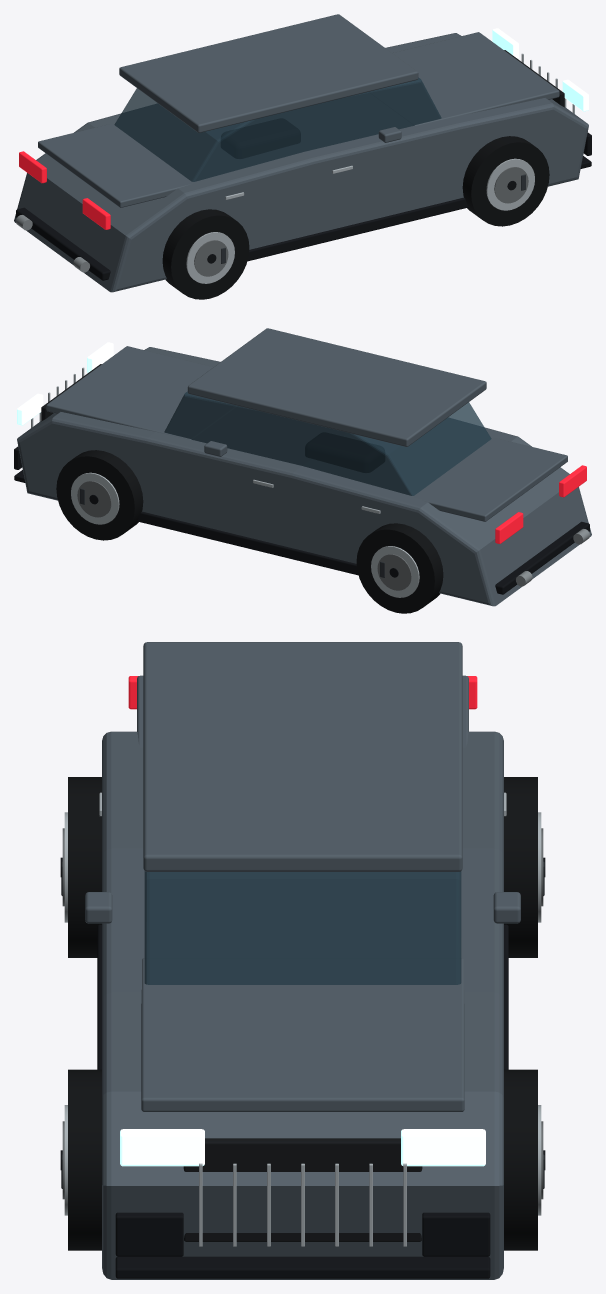
The model's file is lambo_urus_s.glb.
The picture shows the model from 3 angles, top to bottom: view 1: azimuth 30°, elevation 25°; view 2: azimuth 150°, elevation 25°; view 3: azimuth 270°, elevation 25°; orthographic projection. The views are drawn at different scales.
Parts seen in each view (by area): view 1: sculpted_body, roof, glasshouse, hood_center, rear_deck, rear_right_wheel_tire, front_right_wheel_tire, side_skirt_1, seat_1, rear_diffuser, rear_right_wheel_rim, front_right_wheel_rim (+6 smaller); view 2: sculpted_body, roof, glasshouse, hood_center, rear_deck, rear_left_wheel_tire, front_left_wheel_tire, side_skirt_-1, seat_-1, rear_diffuser, rear_left_wheel_rim, front_left_wheel_rim (+6 smaller); view 3: sculpted_body, roof, hood_center, glasshouse, front_grille, front_splitter, front_left_wheel_tire, front_right_wheel_tire, rear_left_wheel_tire, rear_right_wheel_tire, headlight_left, headlight_right (+5 smaller).
Boxes of the visible parts, x1=… form: sculpted_body: x1=14, y1=33, x2=588, y2=292; roof: x1=119, y1=14, x2=418, y2=132; glasshouse: x1=114, y1=77, x2=441, y2=181; hood_center: x1=369, y1=32, x2=559, y2=125; rear_deck: x1=38, y1=123, x2=193, y2=207; rear_right_wheel_tire: x1=162, y1=209, x2=249, y2=299; front_right_wheel_tire: x1=462, y1=136, x2=549, y2=226; side_skirt_1: x1=247, y1=197, x2=468, y2=261; seat_1: x1=221, y1=119, x2=300, y2=158; rear_diffuser: x1=16, y1=207, x2=110, y2=280; rear_right_wheel_rim: x1=186, y1=232, x2=234, y2=283; front_right_wheel_rim: x1=486, y1=158, x2=534, y2=210; sculpted_body: x1=17, y1=347, x2=591, y2=606; roof: x1=187, y1=328, x2=486, y2=446; glasshouse: x1=164, y1=391, x2=491, y2=495; hood_center: x1=46, y1=346, x2=236, y2=439; rear_deck: x1=412, y1=437, x2=567, y2=521; rear_left_wheel_tire: x1=356, y1=523, x2=443, y2=613; front_left_wheel_tire: x1=56, y1=450, x2=143, y2=540; side_skirt_-1: x1=137, y1=511, x2=358, y2=575; seat_-1: x1=305, y1=433, x2=384, y2=472; rear_diffuser: x1=495, y1=521, x2=589, y2=594; rear_left_wheel_rim: x1=371, y1=546, x2=419, y2=597; front_left_wheel_rim: x1=71, y1=472, x2=119, y2=524; sculpted_body: x1=102, y1=731, x2=503, y2=1279; roof: x1=143, y1=642, x2=462, y2=871; hood_center: x1=141, y1=958, x2=464, y2=1111; glasshouse: x1=144, y1=871, x2=461, y2=984; front_grille: x1=183, y1=1138, x2=422, y2=1241; front_splitter: x1=115, y1=1256, x2=490, y2=1278; front_left_wheel_tire: x1=504, y1=1069, x2=537, y2=1250; front_right_wheel_tire: x1=68, y1=1069, x2=101, y2=1250; rear_left_wheel_tire: x1=504, y1=777, x2=537, y2=957; rear_right_wheel_tire: x1=68, y1=777, x2=101, y2=957; headlight_left: x1=401, y1=1129, x2=485, y2=1166; headlight_right: x1=120, y1=1129, x2=204, y2=1166.
Bounding box in the file's own units: 5.49 × 1.65 × 2.3.
